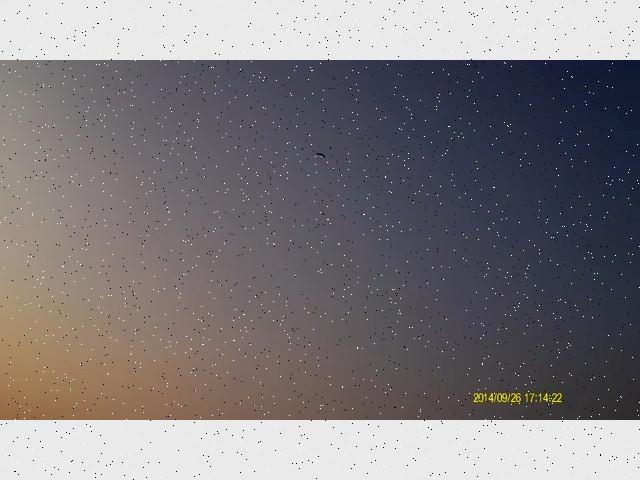Anti-Drone: (308, 148, 336, 164)
